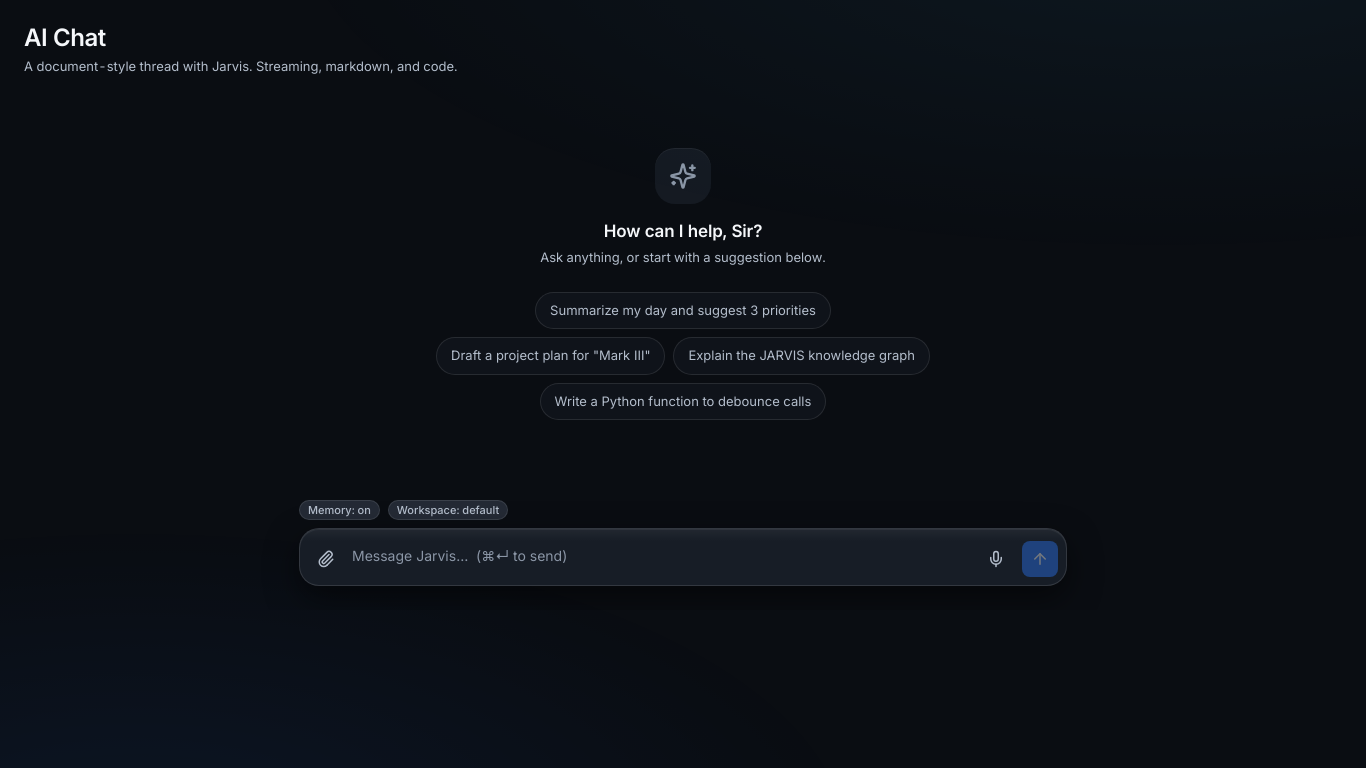
Scenario: ChatPage › shows an error banner with retry when the stream fails
This screenshot has width=1366, height=768.
Type "hi" into the text box with test id "chat-input" at coordinates (661, 557), box [352,537,970,577]
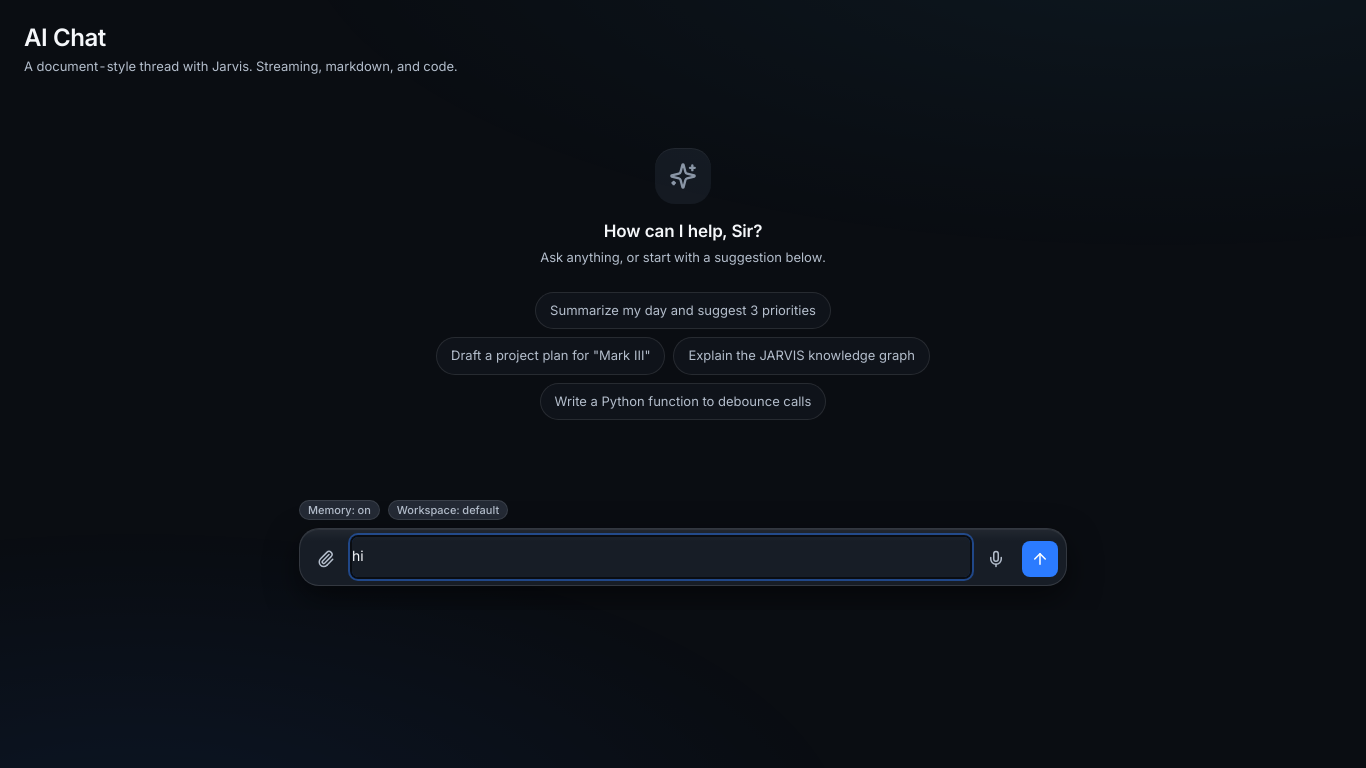
Click the button with test id "chat-send" at coordinates (1040, 559), box [1022,541,1058,577]
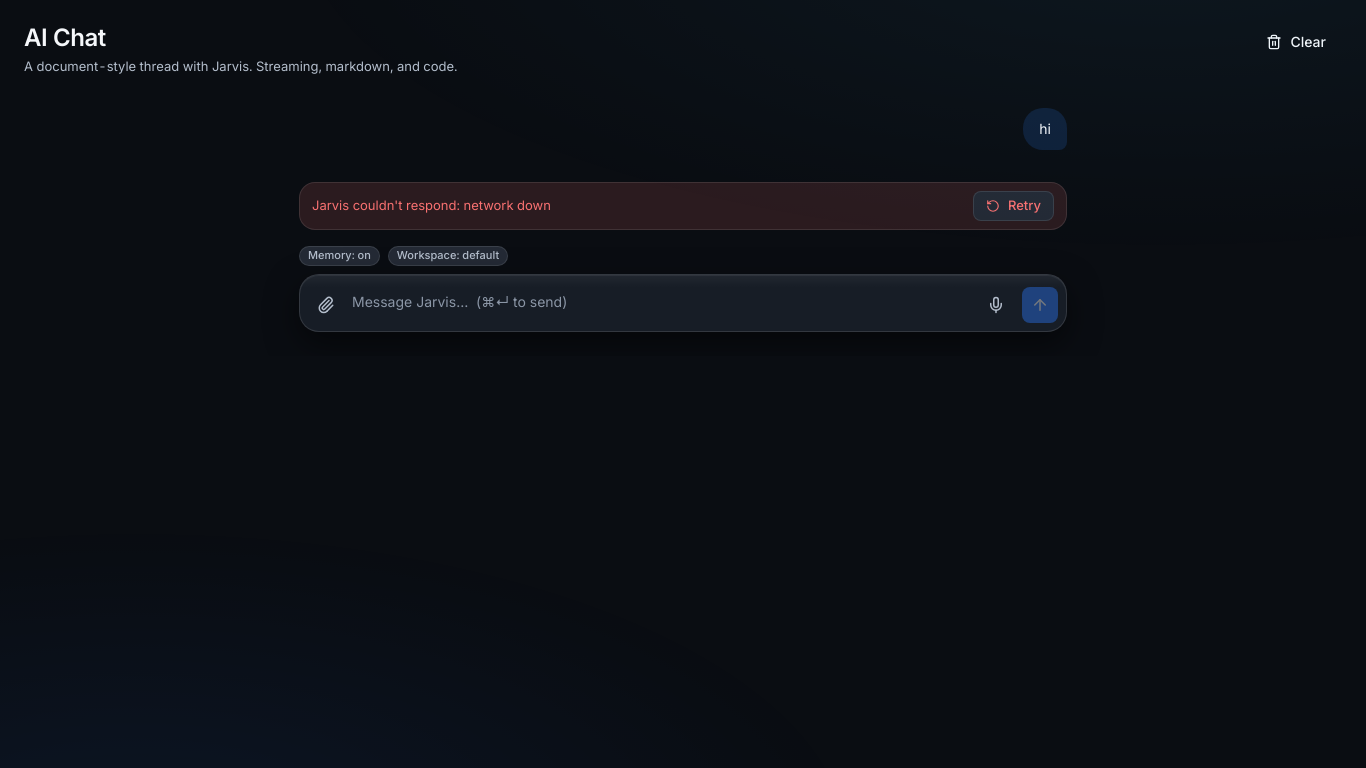
Now the message "Jarvis couldn't respond: network down Retry" is shown, box [299,182,1067,230]
Now the message with test id "chat-error" shows "network down", box [312,197,551,213]
Now the button with test id "chat-retry" is shown, box [973,191,1054,221]
